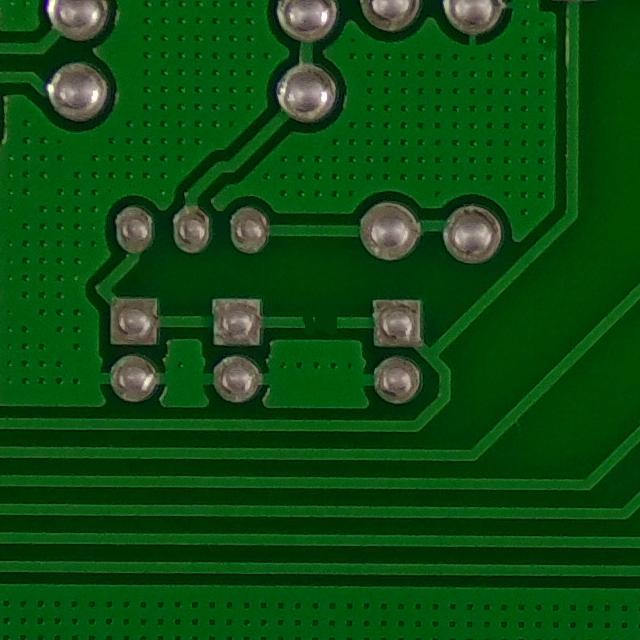open_circuit: (294, 303, 346, 338)
